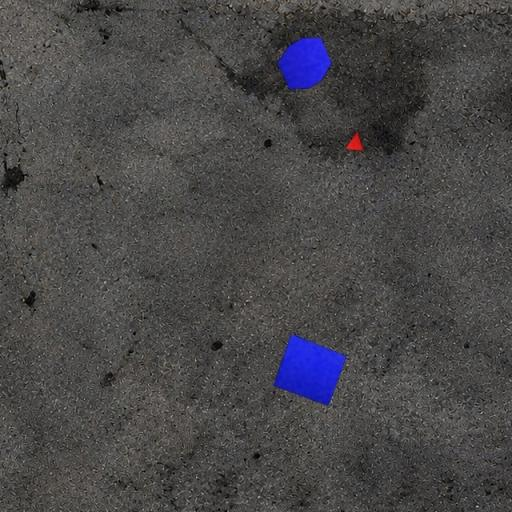BLUE_SQUARE: (272, 334, 347, 406)
